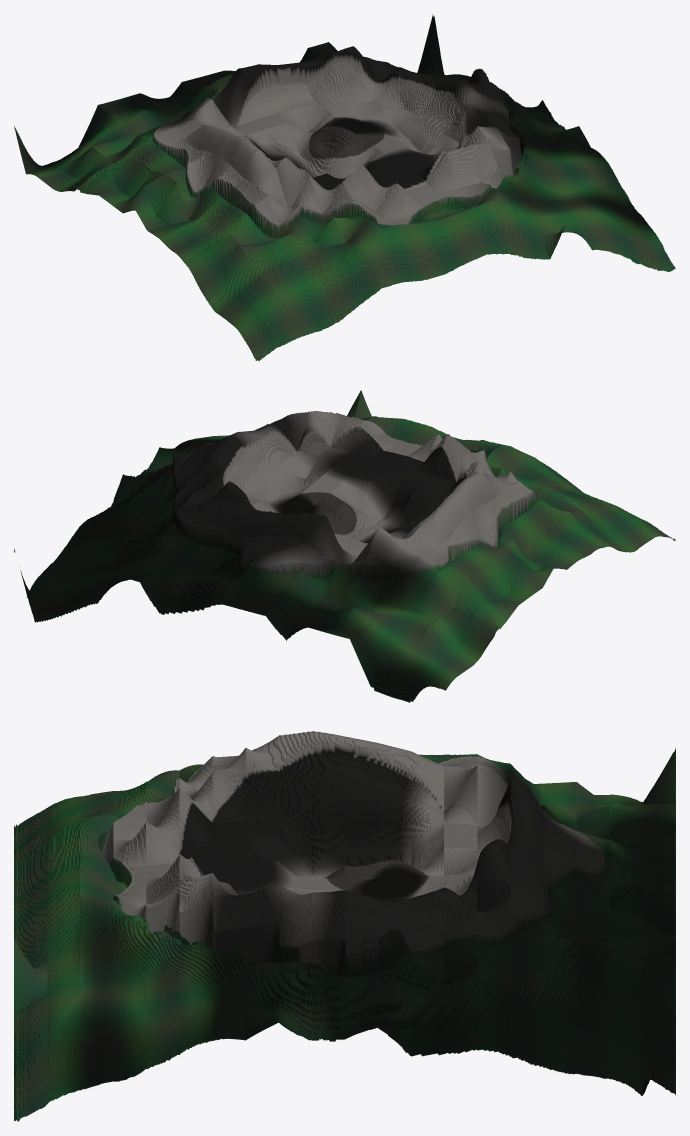
Rendered from msh_localized_mesh.glb.
3 renders of one model, top to bottom at view 1: azimuth 30°, elevation 25°; view 2: azimuth 150°, elevation 25°; view 3: azimuth 270°, elevation 25°, orthographic. The views are drawn at different scales.
Parts seen in each view (by area): view 1: geometry_0; view 2: geometry_0; view 3: geometry_0.
Part boxes in pixels (bbox=[...]): geometry_0: bbox=[14, 14, 675, 361]; geometry_0: bbox=[14, 390, 675, 702]; geometry_0: bbox=[14, 731, 675, 1121].
Bounding box in the file's own units: 10 × 3 × 10.
1 material, 1 textured.
